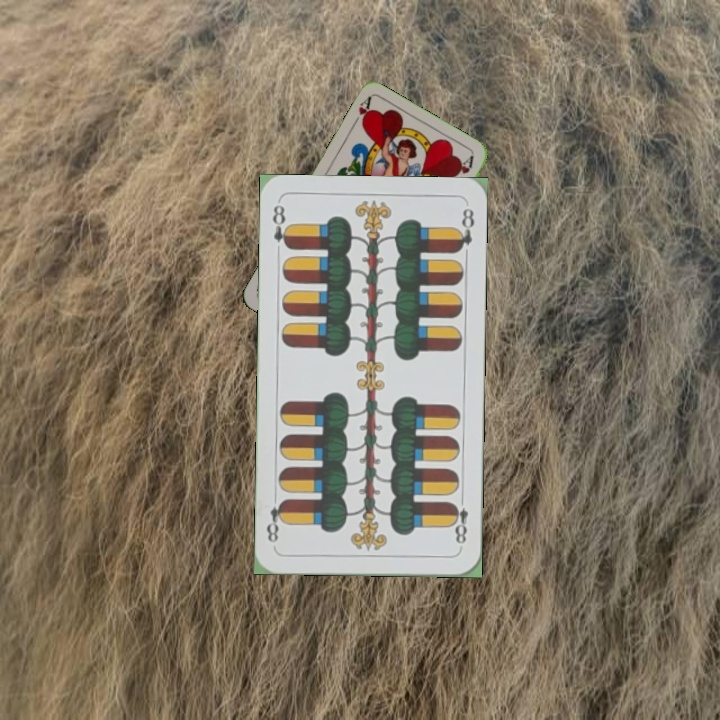E8: (447, 492, 470, 551), (268, 201, 293, 251)
HA: (347, 94, 374, 131)
